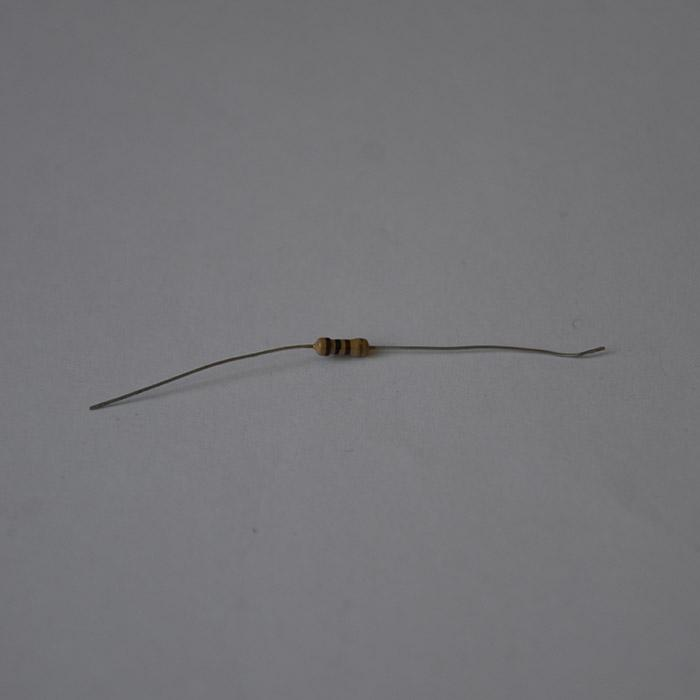resistor: (315, 337, 369, 357)
